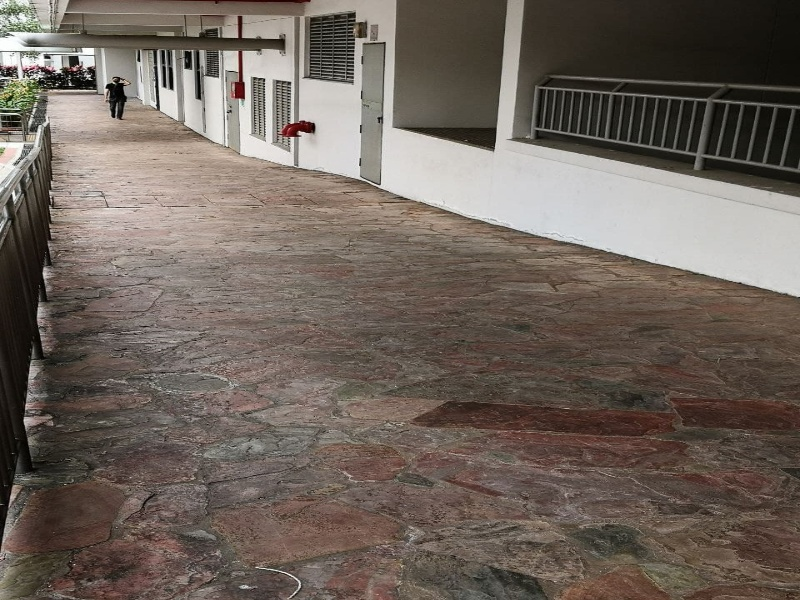slope: (68, 129, 714, 570)
